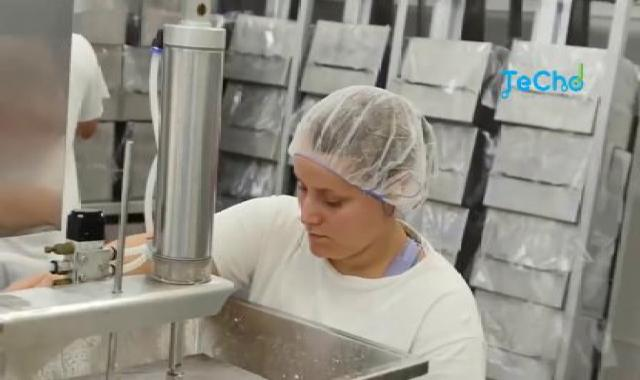hairnet: (288, 88, 443, 222)
